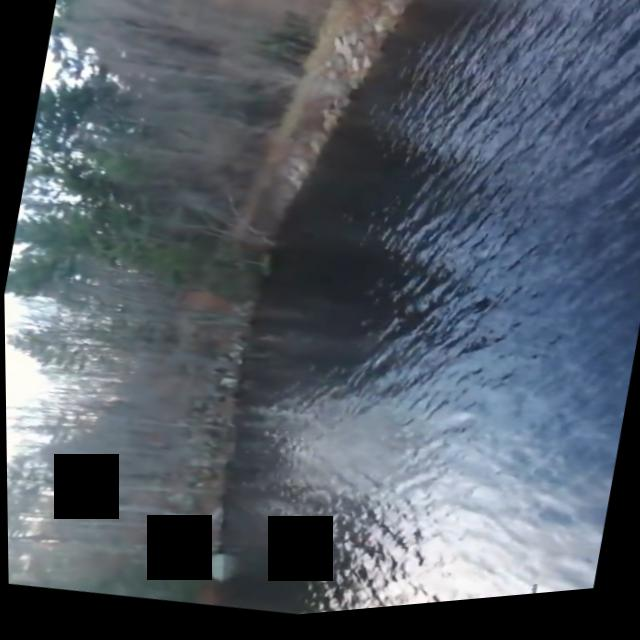Tree: (2, 177, 286, 348), (43, 0, 340, 127), (5, 455, 225, 622), (29, 60, 298, 191), (20, 131, 257, 239), (4, 292, 190, 406)
